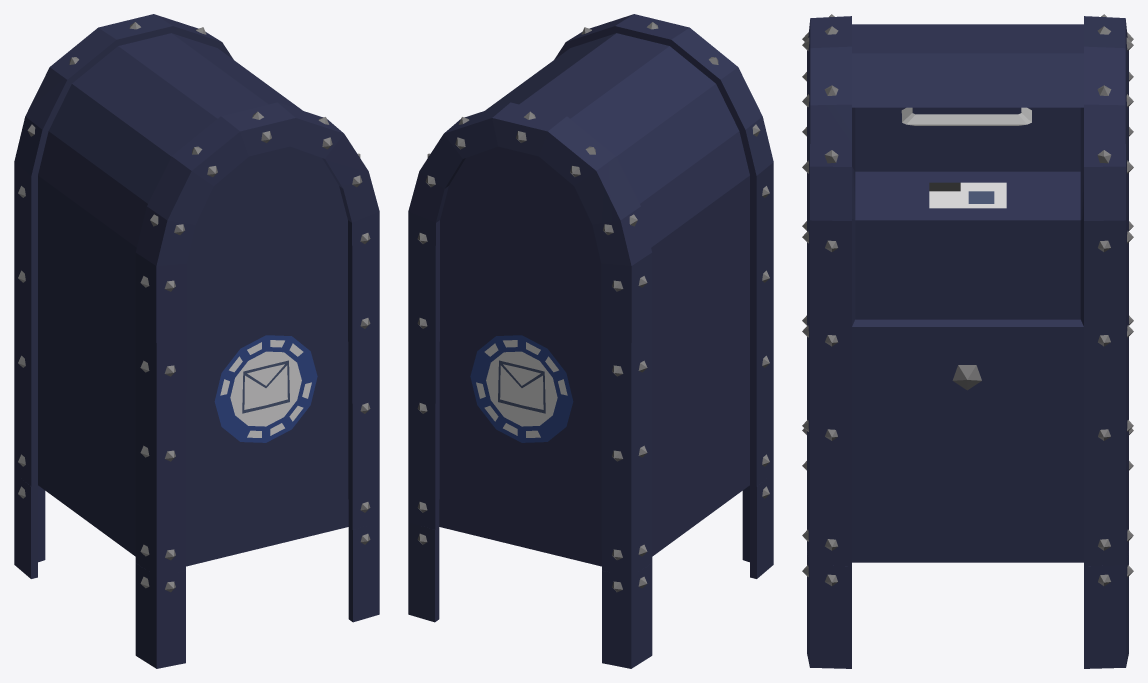
The model's file is SM_mailbox_1.gltf.
3 views of the same model, side by side, from view 1: azimuth 30°, elevation 25°; view 2: azimuth 150°, elevation 25°; view 3: azimuth 270°, elevation 25° (orthographic). The views are drawn at different scales.
Visible parts, largest first — view 1: SM_mailbox_1; view 2: SM_mailbox_1; view 3: SM_mailbox_1.
Boxes of the visible parts, box(x1,y1,x2,y2) form: SM_mailbox_1: box(14, 14, 379, 668); SM_mailbox_1: box(408, 14, 773, 668); SM_mailbox_1: box(802, 14, 1133, 668).
Bounding box in the file's own units: 0.6696 × 1.42 × 0.7356.
1 material, 1 textured.
